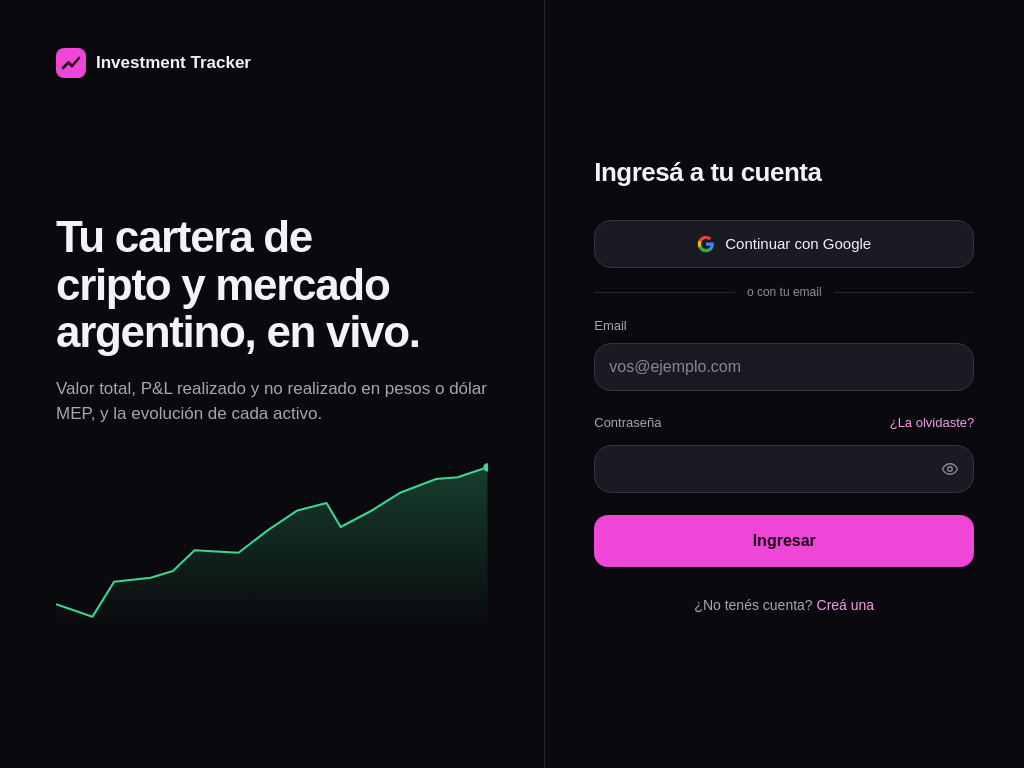
Test case: /login › tells the user to wait when rate limited
Expected: the heading "Ingresá a tu cuenta" is shown, [594,157,821,187]
Type "ana@example.com" into the field labelled "Email" at (784, 366), box [594,342,974,390]
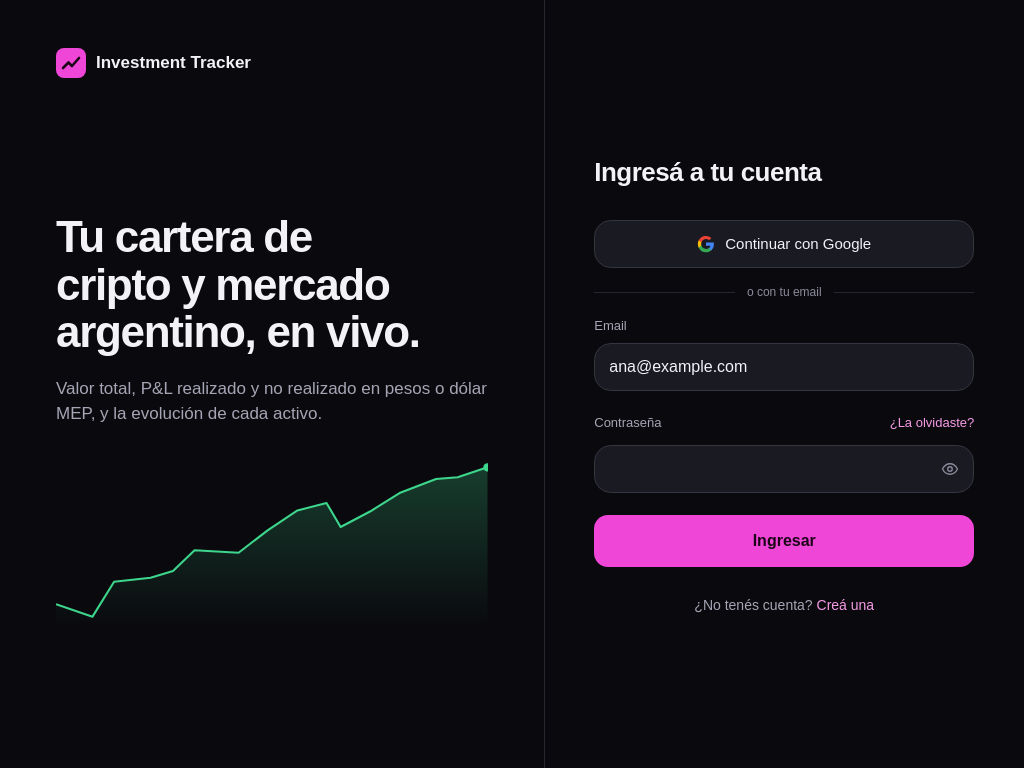
Type "correct horse battery" into the password field labelled "Contraseña" at (784, 469), box [594,445,974,493]
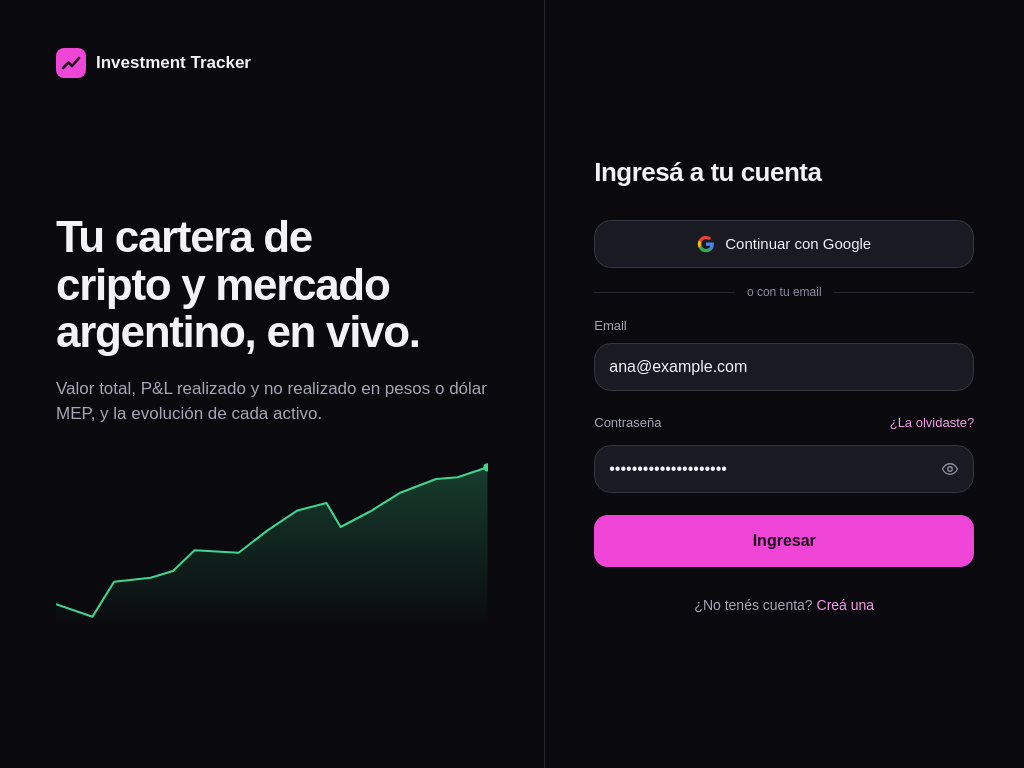
Click the button "Ingresar" at (784, 541), box [594,515,974,567]
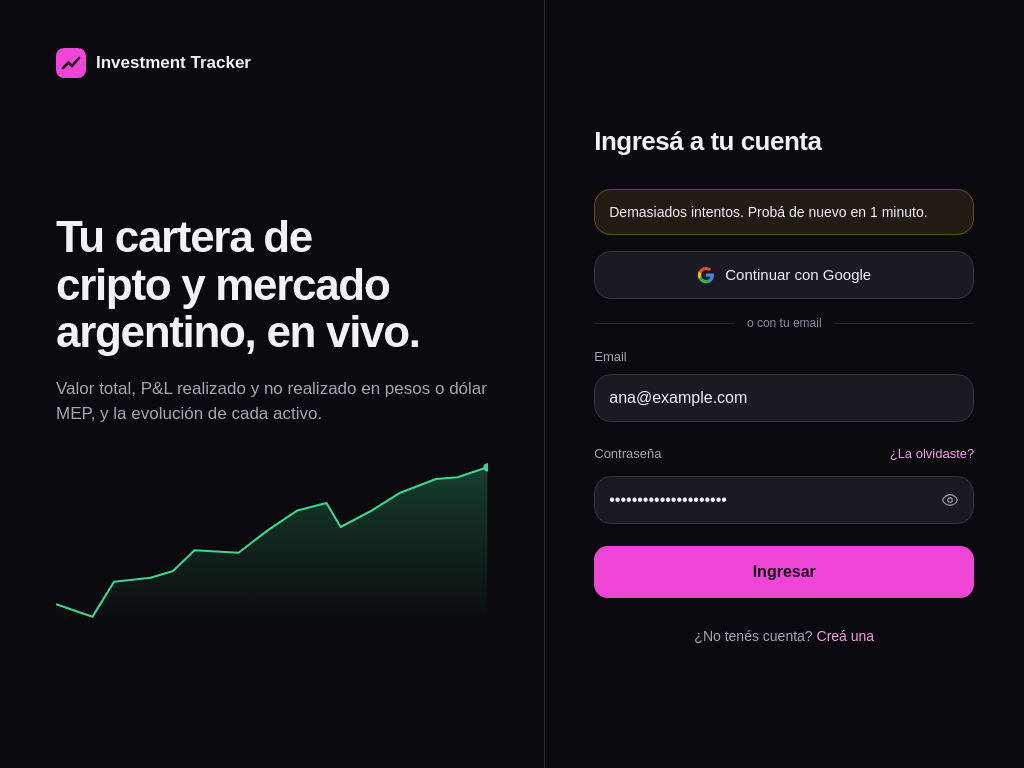
Expected: the message reads "Demasiados intentos. Probá de nuevo en 1 minuto.", [609,204,928,220]
